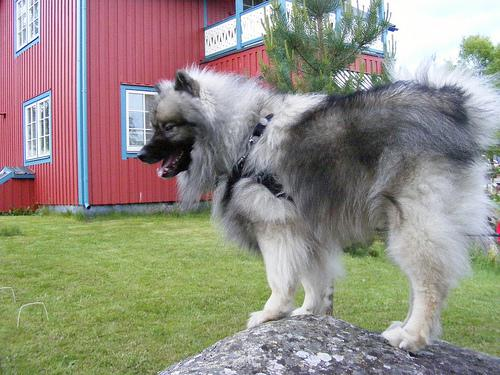dog-keeshond: (135, 69, 216, 177)
